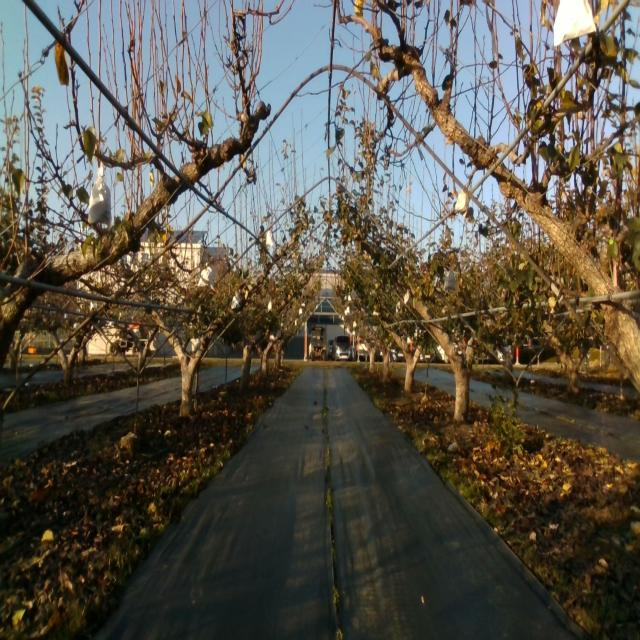pearbags: (553, 0, 597, 47), (88, 166, 111, 225), (197, 261, 213, 288), (455, 192, 468, 219), (444, 270, 456, 292)
